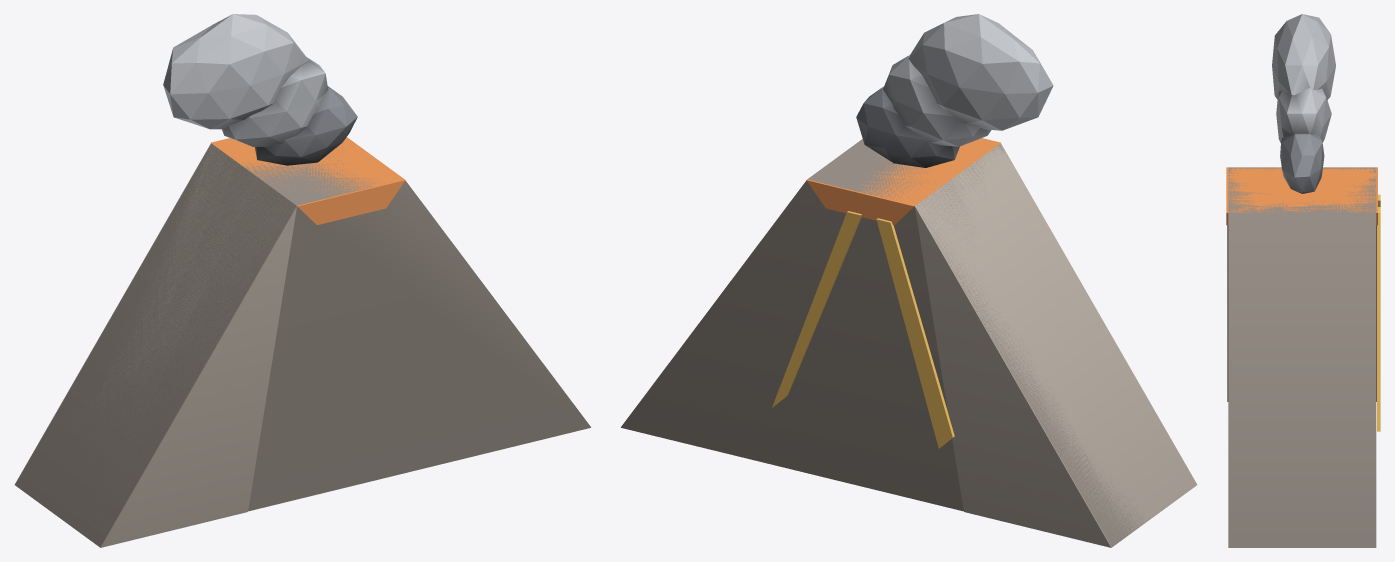
Rendered from Mountain_Volcano1.fbx.
3 renders of one model, left to right at view 1: azimuth 30°, elevation 25°; view 2: azimuth 150°, elevation 25°; view 3: azimuth 270°, elevation 25°, orthographic. The views are drawn at different scales.
Parts seen in each view (by area): view 1: Mountain_Volcano1; view 2: Mountain_Volcano1; view 3: Mountain_Volcano1.
Boxes of the visible parts, x1,y1,x2,y2 form: Mountain_Volcano1: (14,14,590,547); Mountain_Volcano1: (621,14,1197,547); Mountain_Volcano1: (1226,14,1380,547).
Bounding box in the file's own units: 14 × 12.51 × 4.37.
